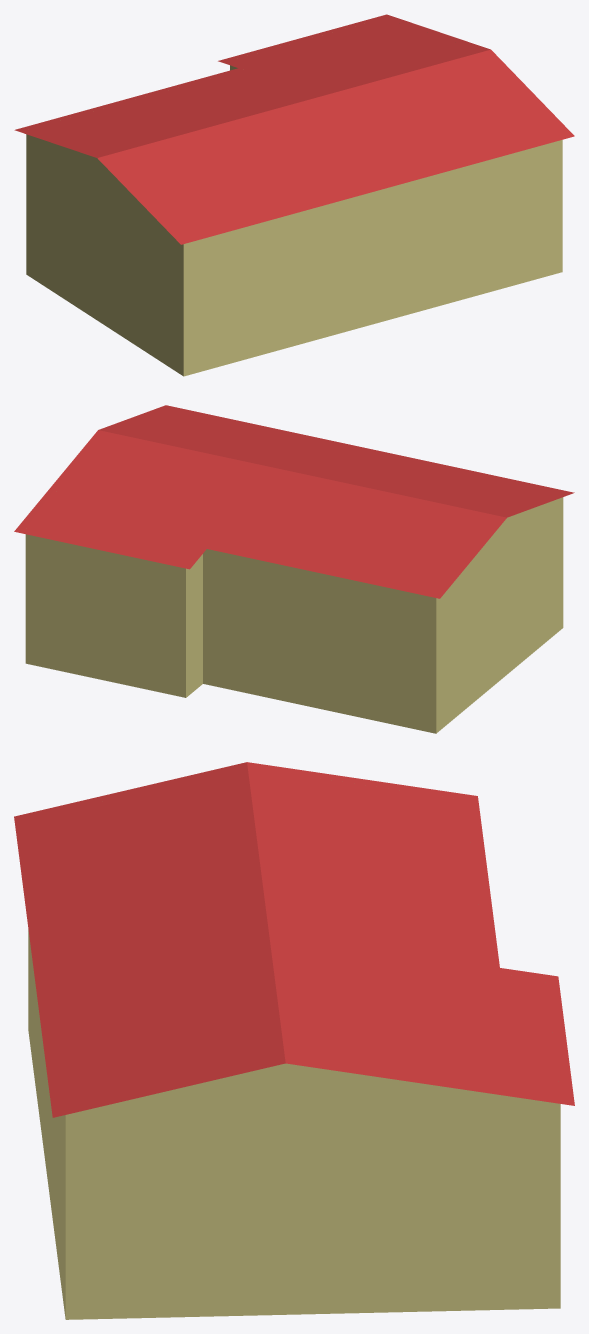
The picture shows the model from 3 angles, top to bottom: view 1: azimuth 30°, elevation 25°; view 2: azimuth 150°, elevation 25°; view 3: azimuth 270°, elevation 25°; orthographic projection. The views are drawn at different scales.
Size of the model in its own units: 27.08 by 20.57 by 10.4.
